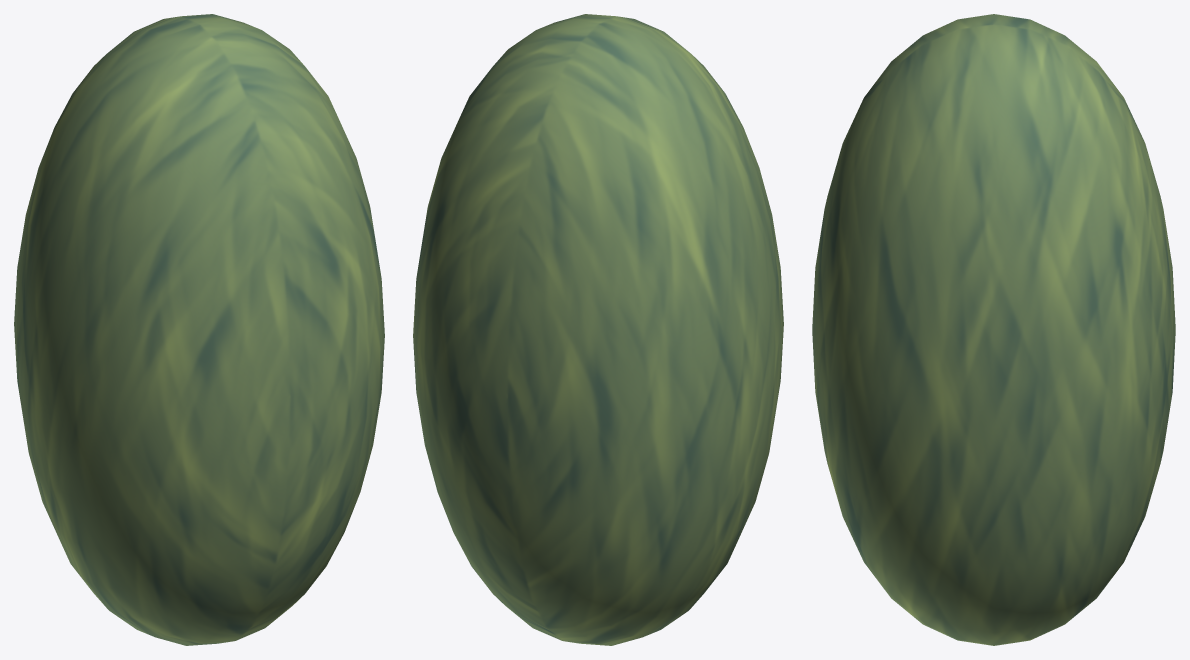
File: Telur.glb
The picture shows the model from 3 angles, left to right: view 1: azimuth 30°, elevation 25°; view 2: azimuth 150°, elevation 25°; view 3: azimuth 270°, elevation 25°; orthographic projection.
Parts seen in each view (by area): view 1: pCube2; view 2: pCube2; view 3: pCube2.
Boxes of the visible parts, box(x1,y1,x2,y2) form: pCube2: box(14, 14, 384, 645); pCube2: box(413, 14, 783, 645); pCube2: box(812, 14, 1175, 645).
Bounding box in the file's own units: 0.0382 × 0.0709 × 0.0382.
1 material, 1 textured.
